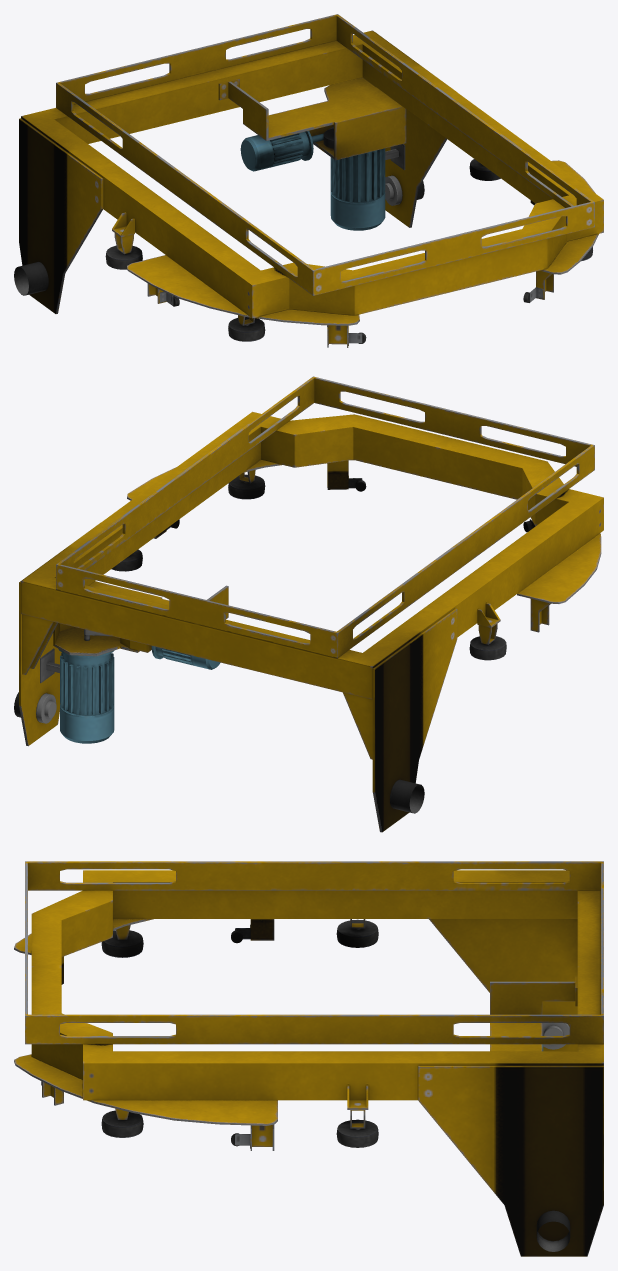
Rendered from Wrapper_Lift.fbx.
3 views of the same model, one above another, from view 1: azimuth 30°, elevation 25°; view 2: azimuth 150°, elevation 25°; view 3: azimuth 270°, elevation 25° (orthographic). The views are drawn at different scales.
Parts seen in each view (by area): view 1: Arm; view 2: Arm; view 3: Arm.
Part boxes in pixels (x1,y1,x2,y2): Arm: [14, 14, 603, 347]; Arm: [14, 376, 603, 832]; Arm: [14, 861, 603, 1256].
Bounding box in the file's own units: 1.49 × 0.6361 × 1.55.
1 material, 1 textured.
